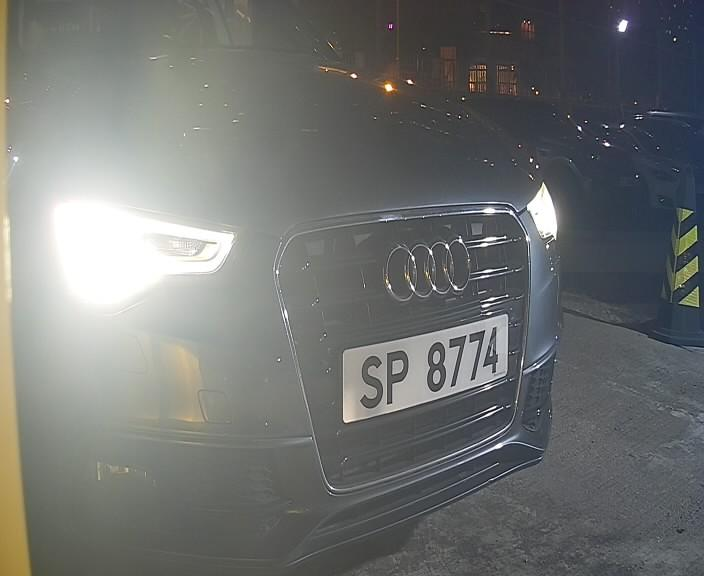License Plate: (340, 312, 516, 420)
